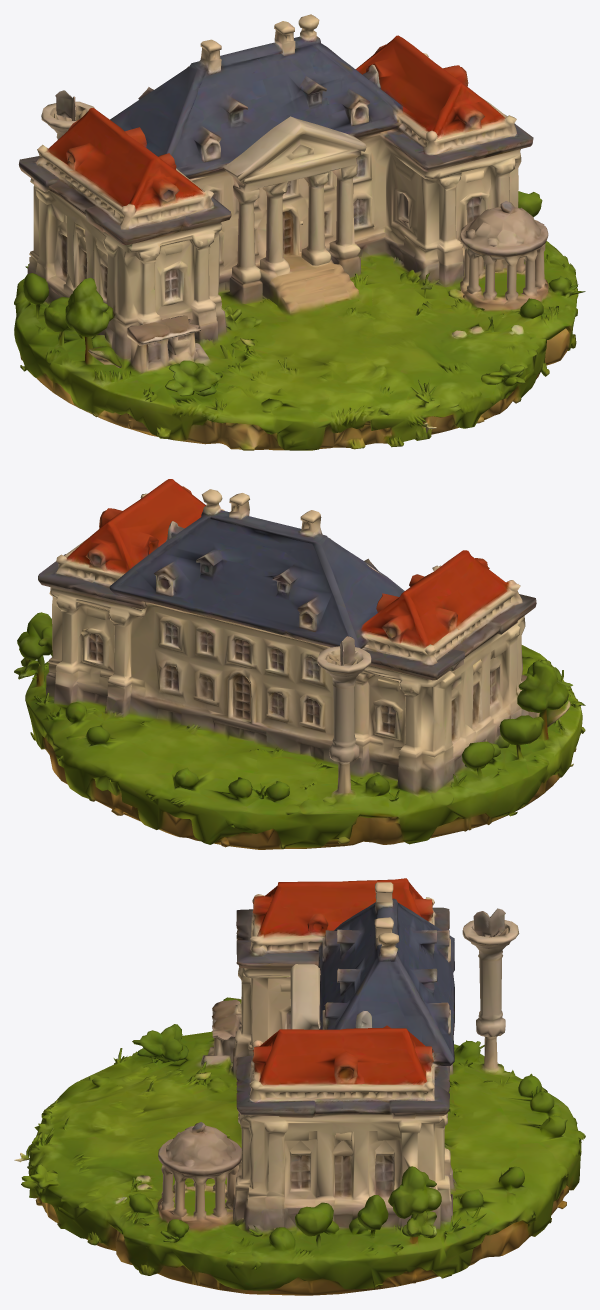
The model's file is pulawy.glb.
3 views of the same model, one above another, from view 1: azimuth 30°, elevation 25°; view 2: azimuth 150°, elevation 25°; view 3: azimuth 270°, elevation 25° (orthographic). The views are drawn at different scales.
Parts seen in each view (by area): view 1: tripo_node_f3db97a5-07cc-46e8-b123-4e4be925b62c; view 2: tripo_node_f3db97a5-07cc-46e8-b123-4e4be925b62c; view 3: tripo_node_f3db97a5-07cc-46e8-b123-4e4be925b62c.
Part boxes in pixels (<box>): tripo_node_f3db97a5-07cc-46e8-b123-4e4be925b62c: <box>14,14,585,450</box>; tripo_node_f3db97a5-07cc-46e8-b123-4e4be925b62c: <box>14,479,585,849</box>; tripo_node_f3db97a5-07cc-46e8-b123-4e4be925b62c: <box>14,878,585,1295</box>.
Size of the model in its own units: 0.979 by 0.5235 by 0.9786.
1 material, 1 textured.
